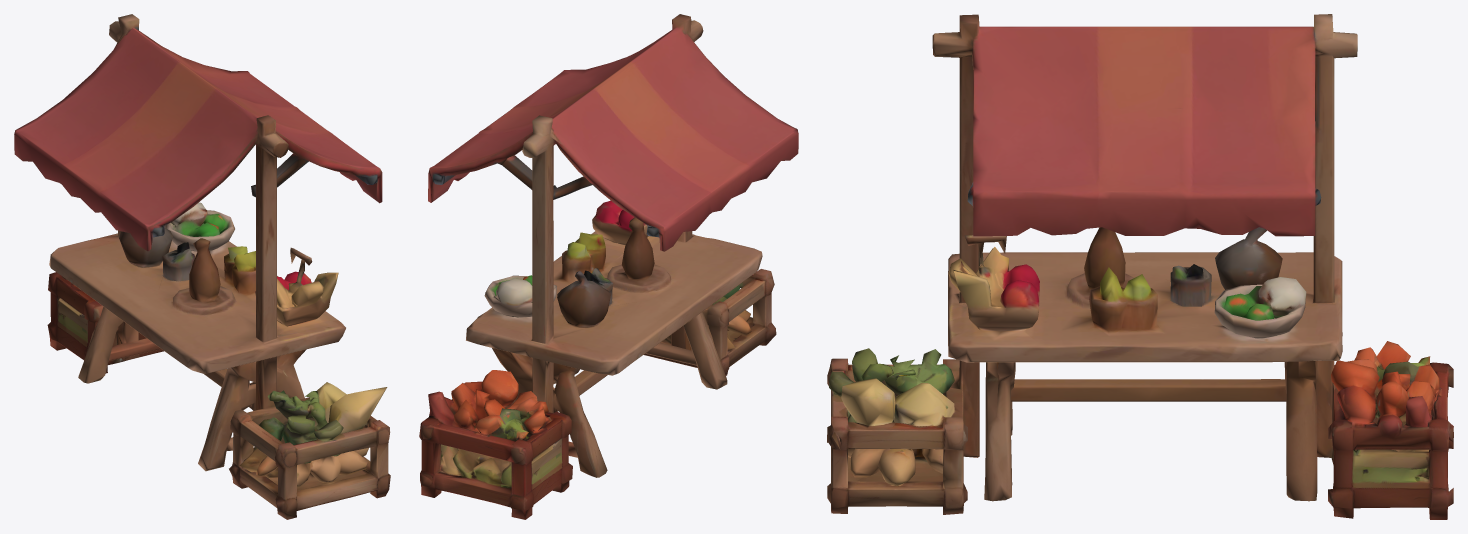
The model's file is marketstall-tripo-original.glb.
The picture shows the model from 3 angles, left to right: view 1: azimuth 30°, elevation 25°; view 2: azimuth 150°, elevation 25°; view 3: azimuth 270°, elevation 25°; orthographic projection. The views are drawn at different scales.
Parts seen in each view (by area): view 1: tripo_node_0775442e-ae80-4eed-b8dd-85aca5b4ee9a; view 2: tripo_node_0775442e-ae80-4eed-b8dd-85aca5b4ee9a; view 3: tripo_node_0775442e-ae80-4eed-b8dd-85aca5b4ee9a.
Part boxes in pixels (box(x1,y1,x2,y2)): tripo_node_0775442e-ae80-4eed-b8dd-85aca5b4ee9a: box(14, 14, 390, 519); tripo_node_0775442e-ae80-4eed-b8dd-85aca5b4ee9a: box(419, 14, 798, 519); tripo_node_0775442e-ae80-4eed-b8dd-85aca5b4ee9a: box(827, 14, 1453, 519).
Size of the model in its own units: 0.5572 by 0.8032 by 1.
1 material, 1 textured.
